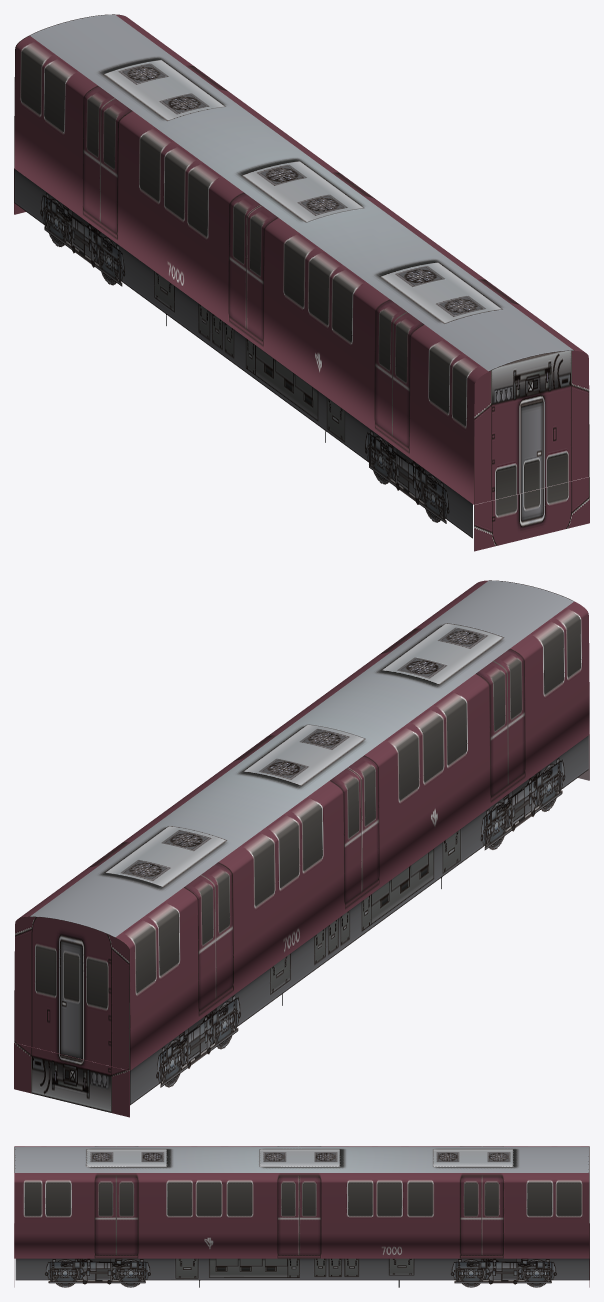
Rendered from car2.glb.
3 renders of one model, top to bottom at view 1: azimuth 30°, elevation 25°; view 2: azimuth 150°, elevation 25°; view 3: azimuth 270°, elevation 25°, orthographic. The views are drawn at different scales.
Visible parts, largest first — view 1: hankyu-7000-car2; view 2: hankyu-7000-car2; view 3: hankyu-7000-car2.
Part boxes in pixels (bbox=[...]): hankyu-7000-car2: bbox=[14, 14, 589, 551]; hankyu-7000-car2: bbox=[14, 580, 589, 1117]; hankyu-7000-car2: bbox=[14, 1146, 589, 1287].
Size of the model in its own units: 2.75 by 4.09 by 18.93.
Materials: 9 (8 with a texture image).
